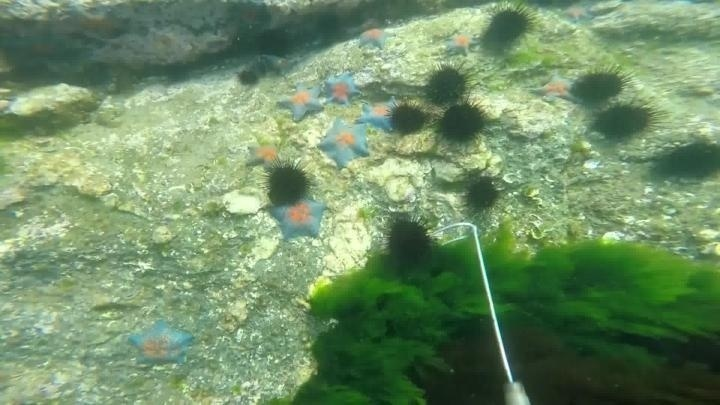echinus: (651, 136, 720, 184), (591, 98, 660, 144), (383, 215, 435, 268), (434, 99, 489, 148), (481, 2, 538, 49), (569, 66, 629, 107), (262, 159, 313, 206), (422, 62, 473, 106), (222, 1, 274, 40), (461, 174, 502, 214), (388, 100, 429, 137), (254, 26, 294, 60), (312, 7, 345, 41), (234, 66, 263, 90)
starfish: (1, 22, 80, 79), (125, 316, 196, 369), (267, 195, 329, 242), (317, 118, 372, 170), (61, 5, 132, 45), (275, 81, 327, 123), (528, 71, 580, 105), (357, 93, 400, 133), (320, 69, 363, 108), (244, 135, 285, 171), (354, 25, 397, 52), (441, 29, 479, 58), (558, 2, 598, 26)
